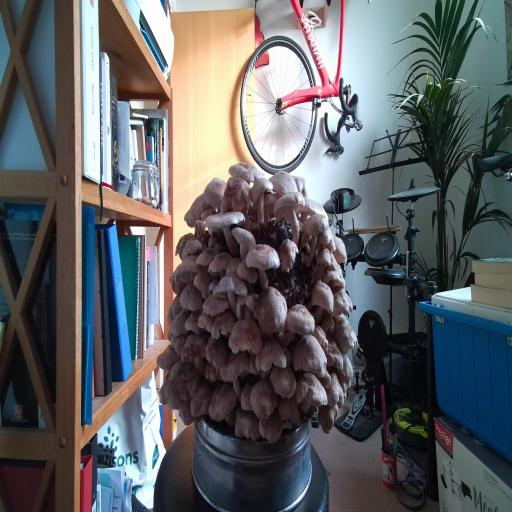Shiitake Mushroom: (141, 349, 215, 420), (189, 189, 261, 259), (234, 227, 292, 295), (200, 259, 261, 322), (265, 176, 318, 245), (288, 199, 338, 263), (195, 372, 249, 431), (212, 336, 259, 399), (240, 369, 288, 429), (176, 319, 219, 381), (323, 306, 366, 364), (277, 299, 325, 342), (253, 284, 289, 339), (184, 373, 219, 427), (303, 274, 339, 326), (292, 365, 329, 415), (244, 170, 277, 226), (268, 230, 307, 277), (227, 213, 261, 262), (178, 189, 214, 233), (148, 339, 187, 379), (250, 336, 291, 374), (292, 333, 328, 376), (195, 286, 236, 321), (263, 166, 304, 201), (224, 157, 270, 188), (229, 254, 266, 292), (199, 168, 229, 213), (329, 351, 361, 393), (255, 407, 286, 450), (168, 224, 201, 264), (228, 319, 262, 355), (190, 238, 224, 273), (170, 253, 206, 285), (202, 332, 230, 373), (220, 175, 251, 212), (233, 407, 263, 444), (294, 195, 331, 225), (158, 293, 190, 326), (162, 269, 194, 301), (189, 264, 216, 301), (308, 320, 335, 357), (178, 278, 205, 314), (308, 361, 339, 392), (313, 225, 338, 261), (270, 366, 297, 398), (210, 308, 237, 340), (318, 261, 350, 288), (175, 395, 197, 431), (176, 235, 207, 260), (324, 338, 347, 371), (167, 324, 190, 357), (276, 394, 300, 425), (291, 167, 312, 202), (169, 306, 190, 340), (326, 372, 345, 409), (314, 245, 332, 284), (208, 250, 232, 277), (317, 310, 339, 338), (236, 292, 257, 321), (193, 310, 219, 333), (318, 405, 338, 434), (333, 287, 353, 316), (332, 235, 350, 265), (264, 191, 280, 220), (184, 311, 201, 336), (240, 381, 254, 411), (193, 216, 207, 243), (225, 257, 241, 275), (204, 363, 218, 383), (300, 233, 310, 255)
